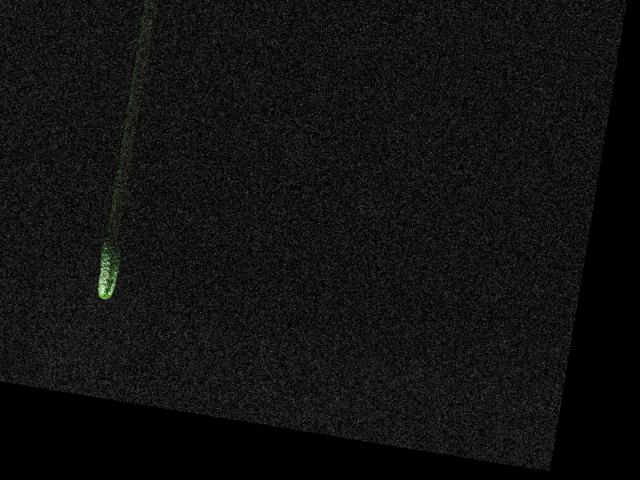cucumber: (92, 239, 122, 300)
